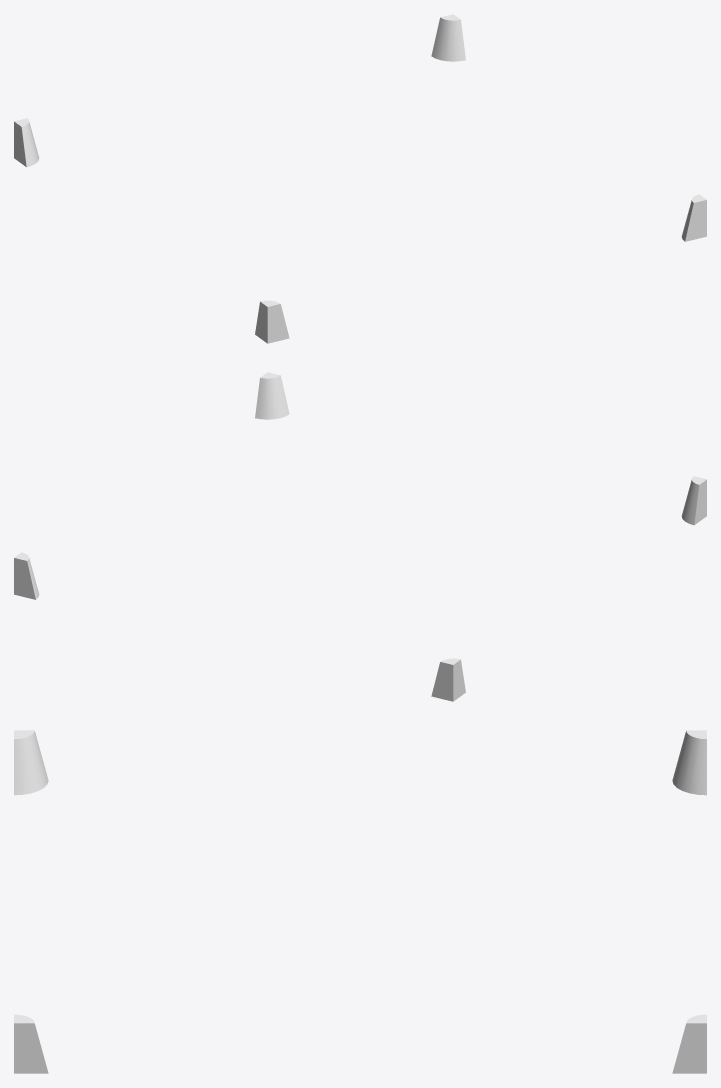
File: road-crossroad-barrier.draco.glb
The picture shows the model from 3 angles, top to bottom: view 1: azimuth 30°, elevation 25°; view 2: azimuth 150°, elevation 25°; view 3: azimuth 270°, elevation 25°; orthographic projection. The views are drawn at different scales.
Visible parts, largest first — view 1: road-crossroad-barrier; view 2: road-crossroad-barrier; view 3: road-crossroad-barrier.
Part boxes in pixels (x1,y1,x2,y2): road-crossroad-barrier: (14, 14, 706, 343); road-crossroad-barrier: (14, 372, 706, 701); road-crossroad-barrier: (14, 730, 706, 1073).
Bounding box in the file's own units: 1 × 0.08 × 1.
1 material, 1 textured.
